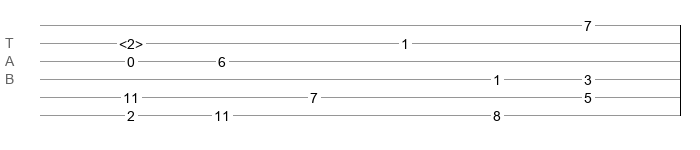0: (127, 54, 135, 64)
1: (401, 36, 409, 46), (493, 72, 501, 82)
11: (123, 90, 139, 100), (214, 108, 230, 118)
2: (127, 108, 135, 118)
3: (584, 72, 592, 82)
5: (584, 90, 592, 100)
6: (218, 54, 226, 64)
7: (310, 90, 318, 100), (584, 18, 592, 28)
8: (493, 108, 501, 118)
harmonic: (119, 36, 143, 46)
